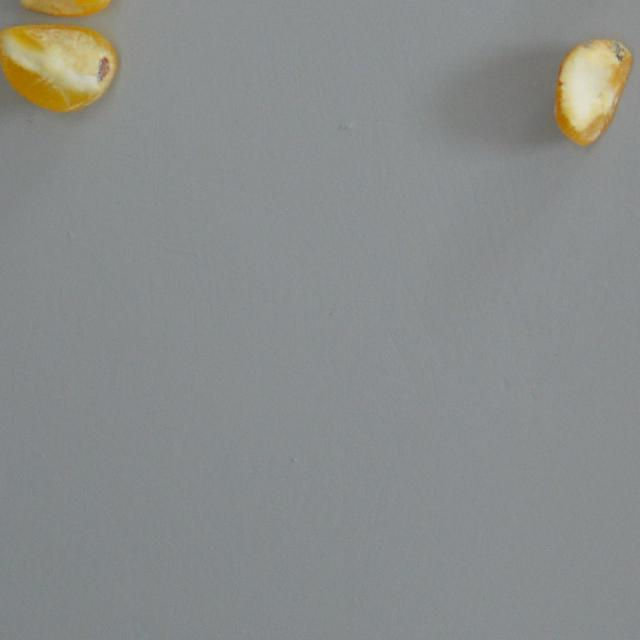dañado: (0, 23, 120, 112), (552, 37, 632, 148)
punto_negro: (15, 0, 115, 16)
